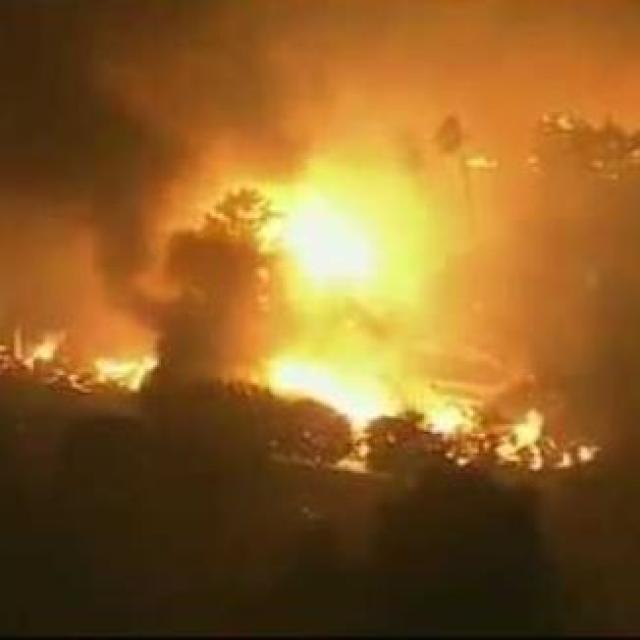Fire: (263, 200, 399, 312), (275, 359, 392, 445), (498, 411, 599, 486), (14, 316, 74, 380), (95, 344, 157, 398), (431, 398, 474, 449)
Smoke: (246, 13, 640, 164), (8, 11, 236, 204), (453, 184, 636, 358), (115, 226, 263, 374)
